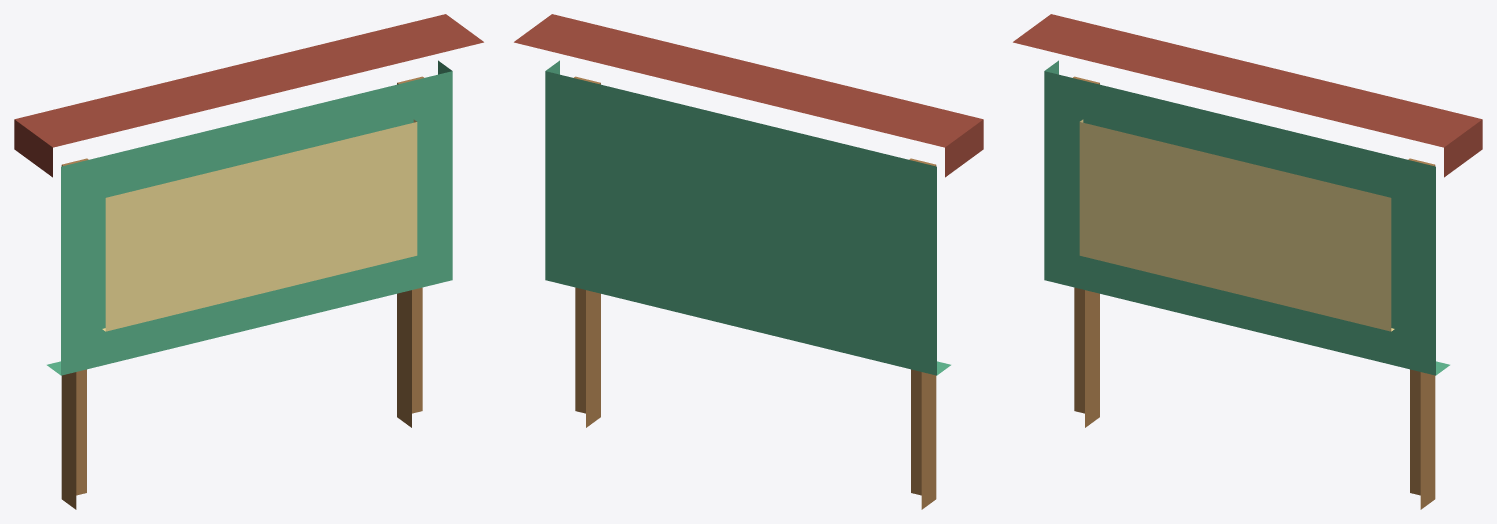
File: notice-board.glb
3 renders of one model, left to right at view 1: azimuth 30°, elevation 25°; view 2: azimuth 150°, elevation 25°; view 3: azimuth 330°, elevation 25°, orthographic.
Size of the model in its own units: 2.7 by 2.27 by 0.42.
